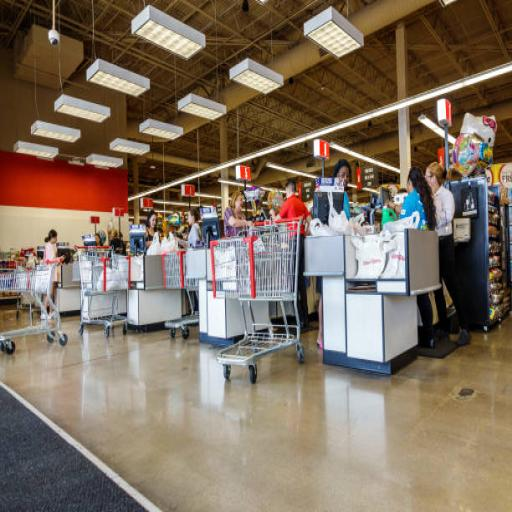shopping_cart: (210, 216, 307, 385), (0, 254, 68, 355), (72, 244, 132, 339), (162, 247, 201, 341)
